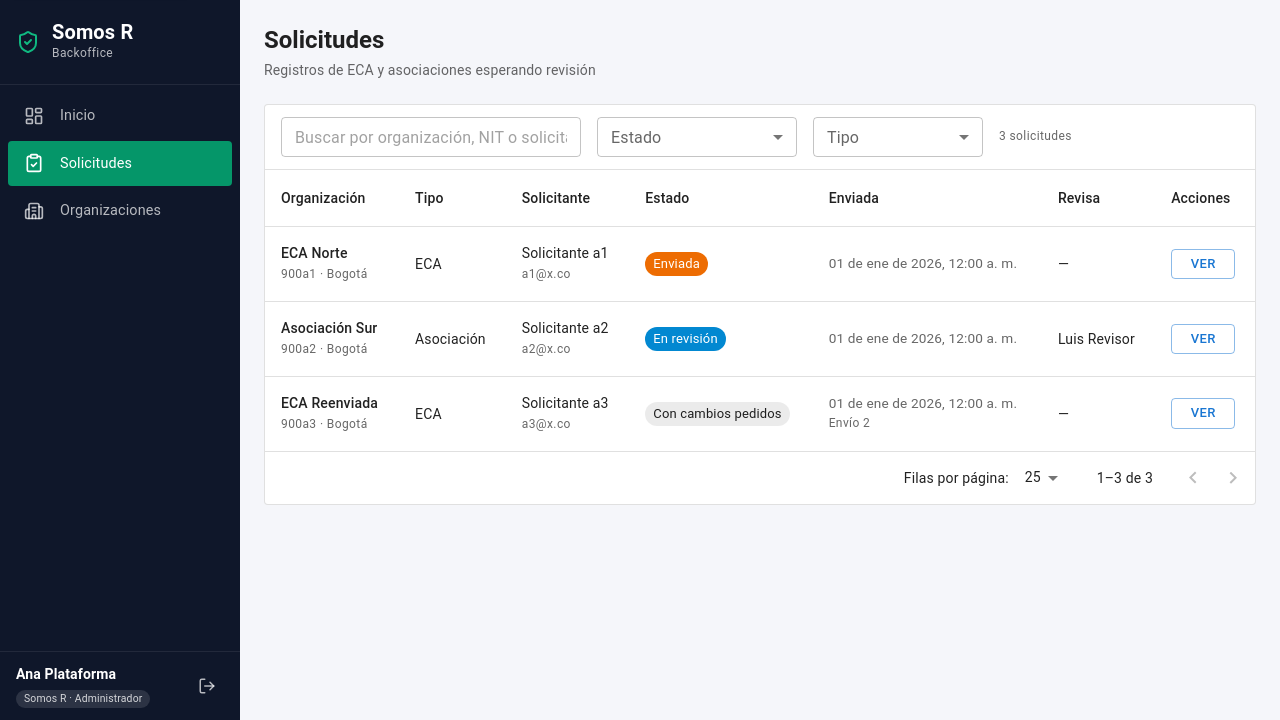
Scenario: application detail › offers no decision on an application that is already closed
Click the 1st dropdown named "Estado" at (697, 137), box x1=597 y1=117 x2=797 y2=157
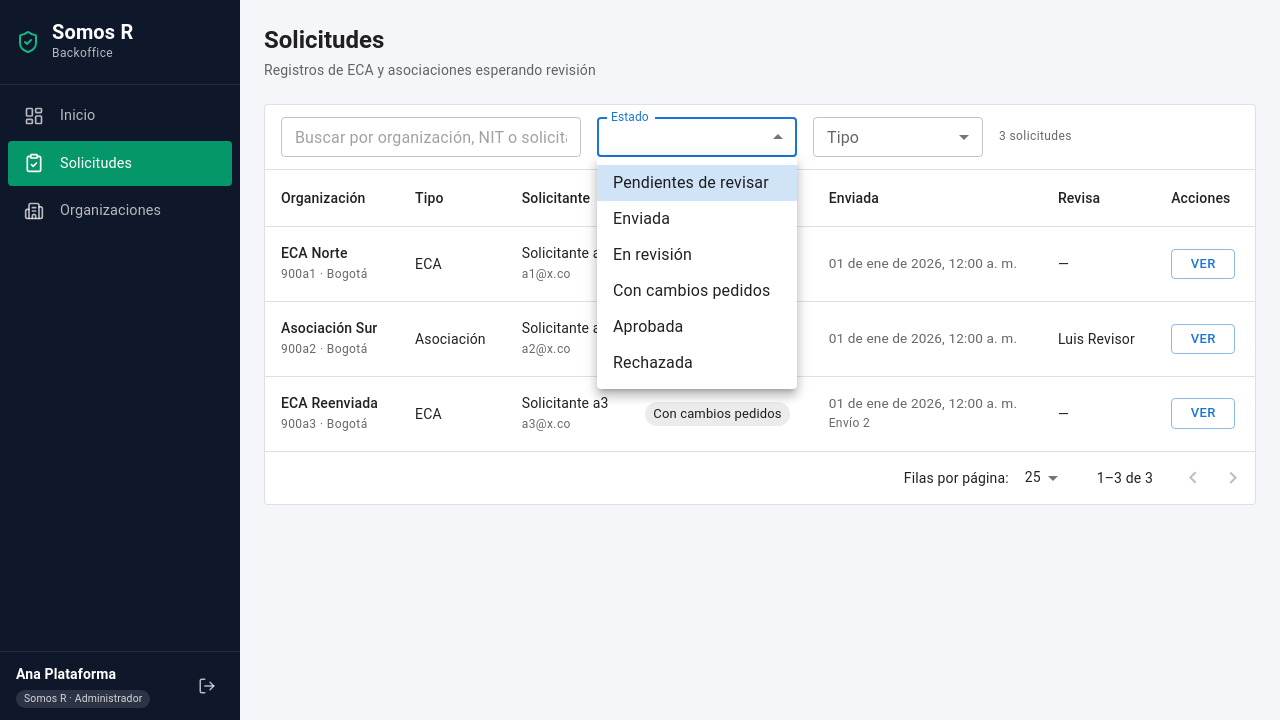
Click the option "Aprobada" at (648, 326), box x1=613 y1=317 x2=683 y2=336
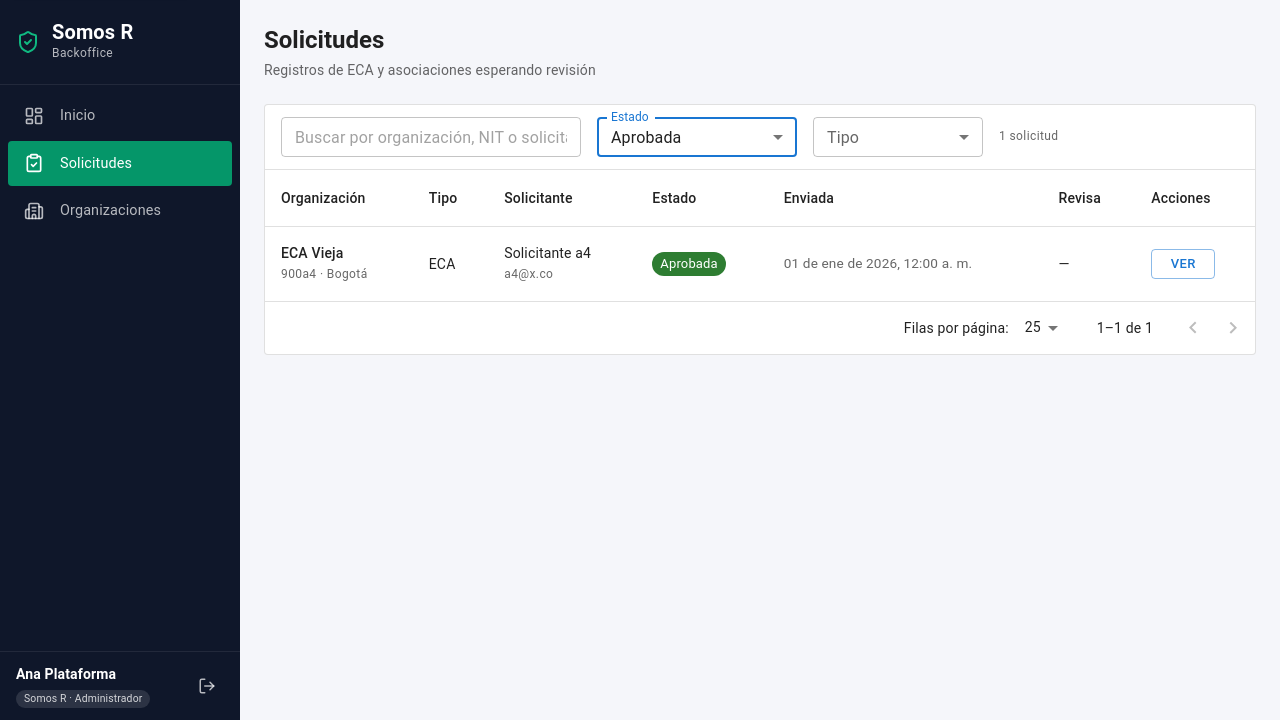
Click the button "Ver" at (1183, 264), box x1=1151 y1=249 x2=1215 y2=279
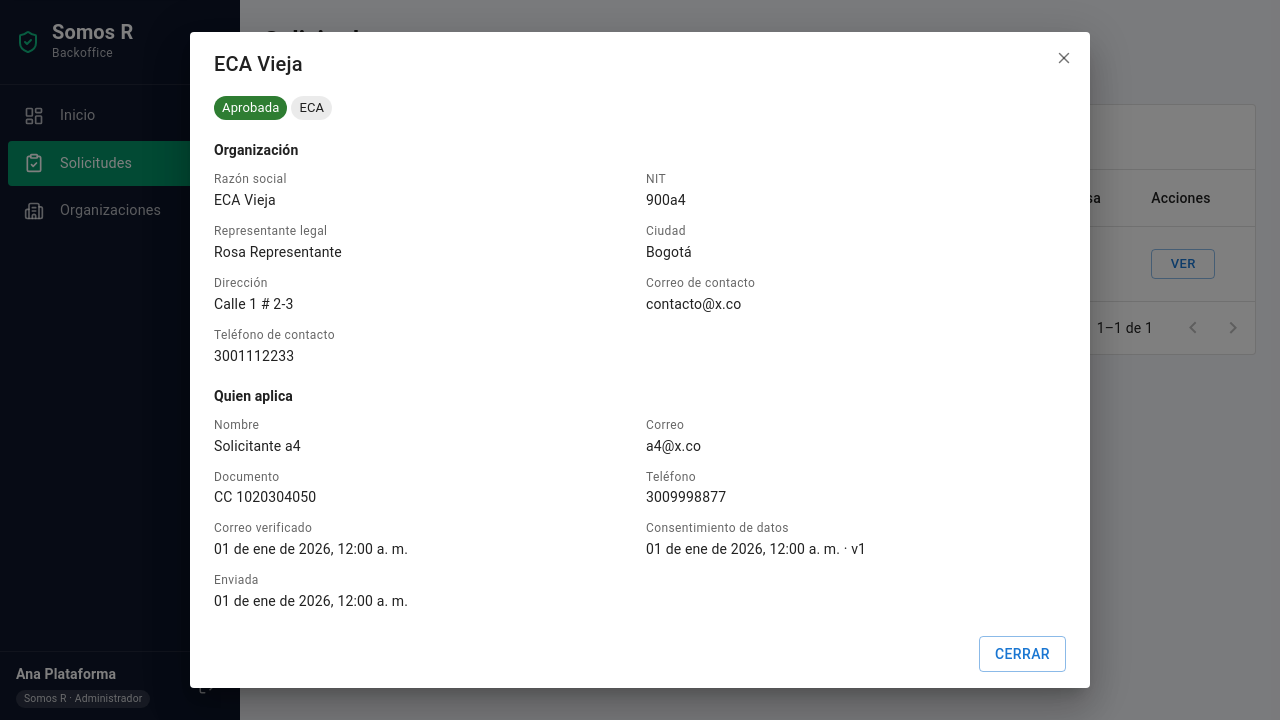
Check: the text "Rosa Representante" is shown, box x1=214 y1=244 x2=342 y2=260
